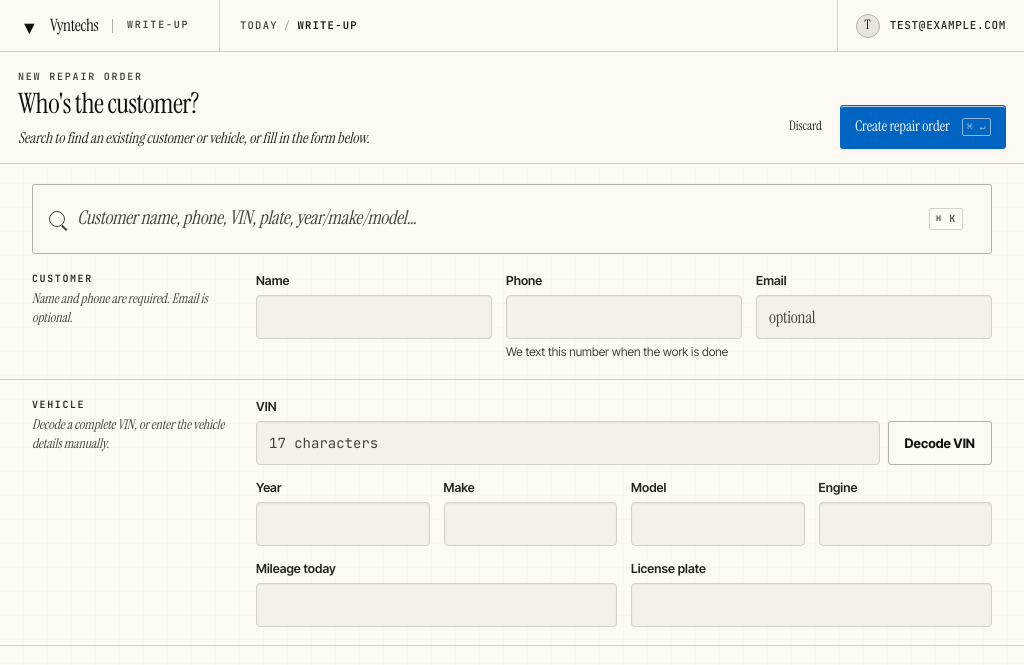
Test: WriteUp page wiring (search + form) › refuses an empty form by naming the first missing field, not by going dead
Click the button "Create repair order ⌘ ↵": (923, 127) [840,105,1006,149]
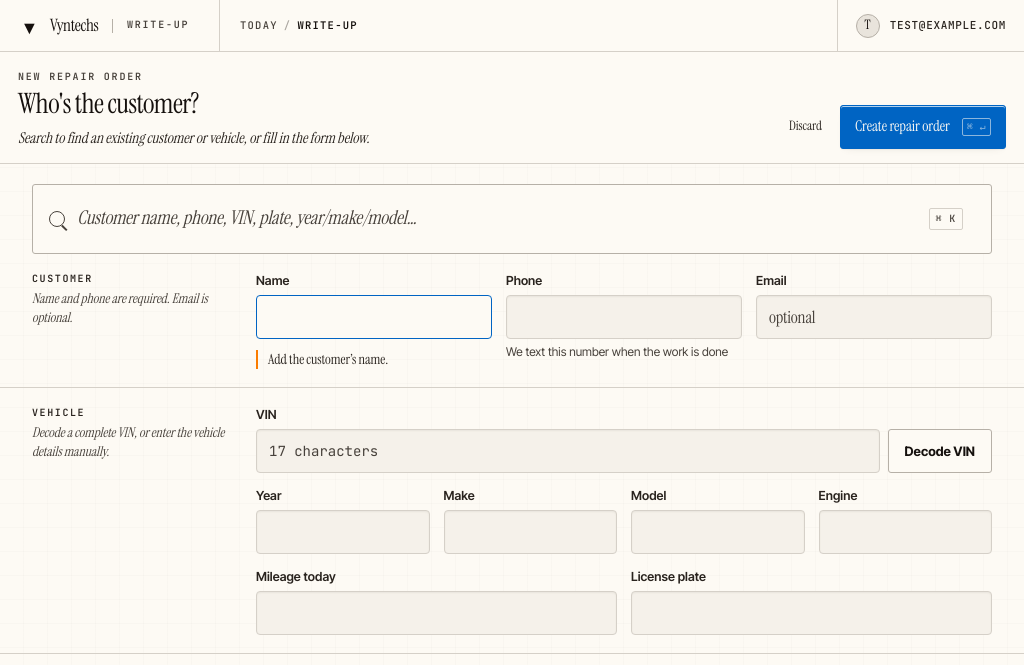
Expected: the message reads "Add the customer’s name.", [268,350,388,368]
